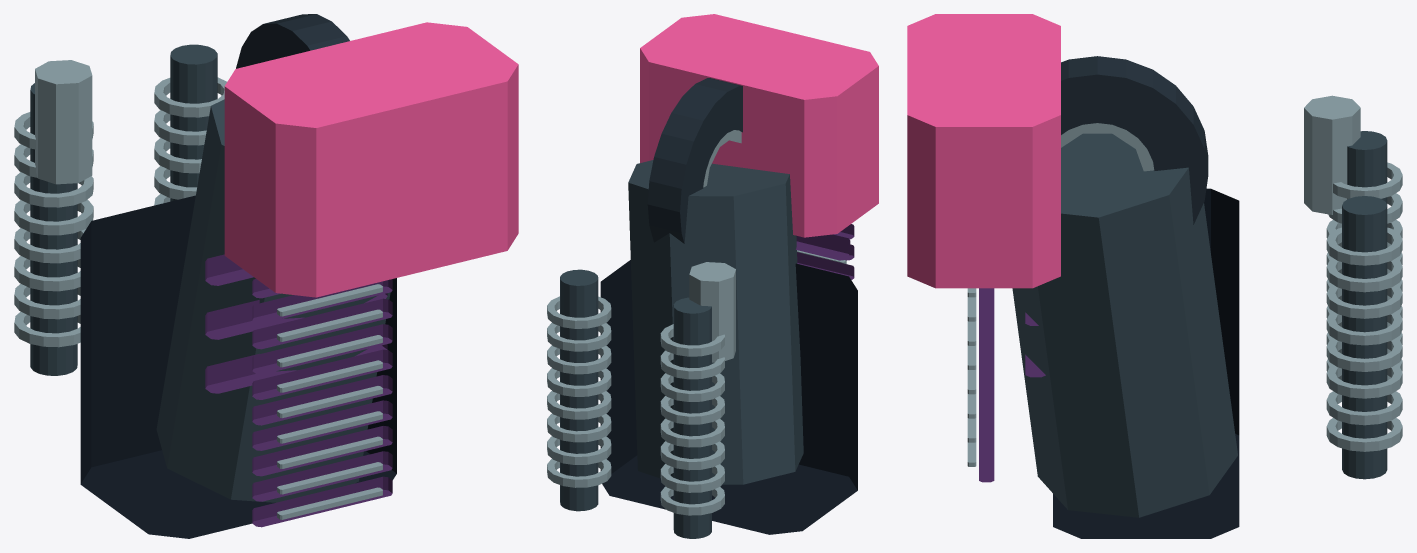
The model's file is enemy_striker_4k_shin_r.obj.
3 renders of one model, left to right at view 1: azimuth 30°, elevation 25°; view 2: azimuth 150°, elevation 25°; view 3: azimuth 270°, elevation 25°, orthographic. The views are drawn at different scales.
Bounding box in the file's own units: 0.3988 × 0.597 × 0.612.
